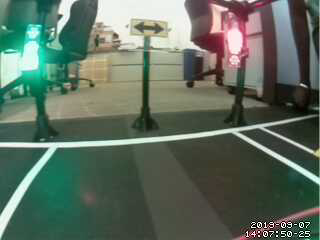Left_Right_sign: (128, 16, 169, 37)
Traffic_light_green: (24, 27, 39, 69)
Traffic_light_red: (228, 22, 244, 65)
